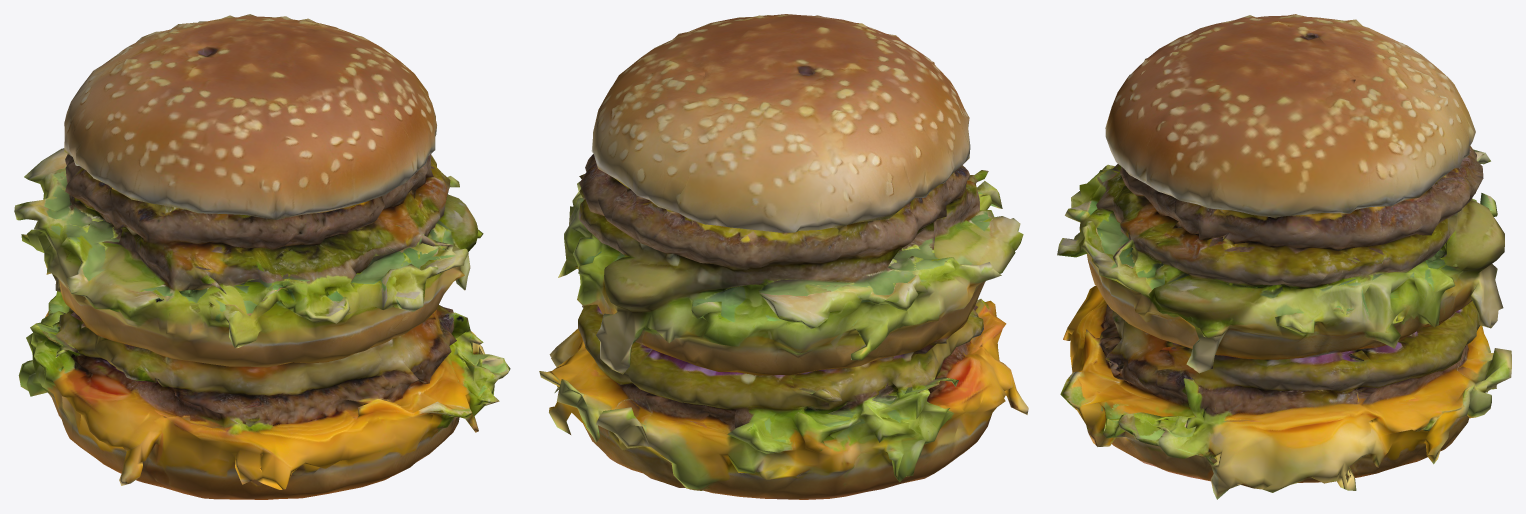
Rendered from BigMac.glb.
3 renders of one model, left to right at view 1: azimuth 30°, elevation 25°; view 2: azimuth 150°, elevation 25°; view 3: azimuth 270°, elevation 25°, orthographic. The views are drawn at different scales.
Size of the model in its own units: 2.01 by 1.75 by 2.
1 material, 1 textured.
